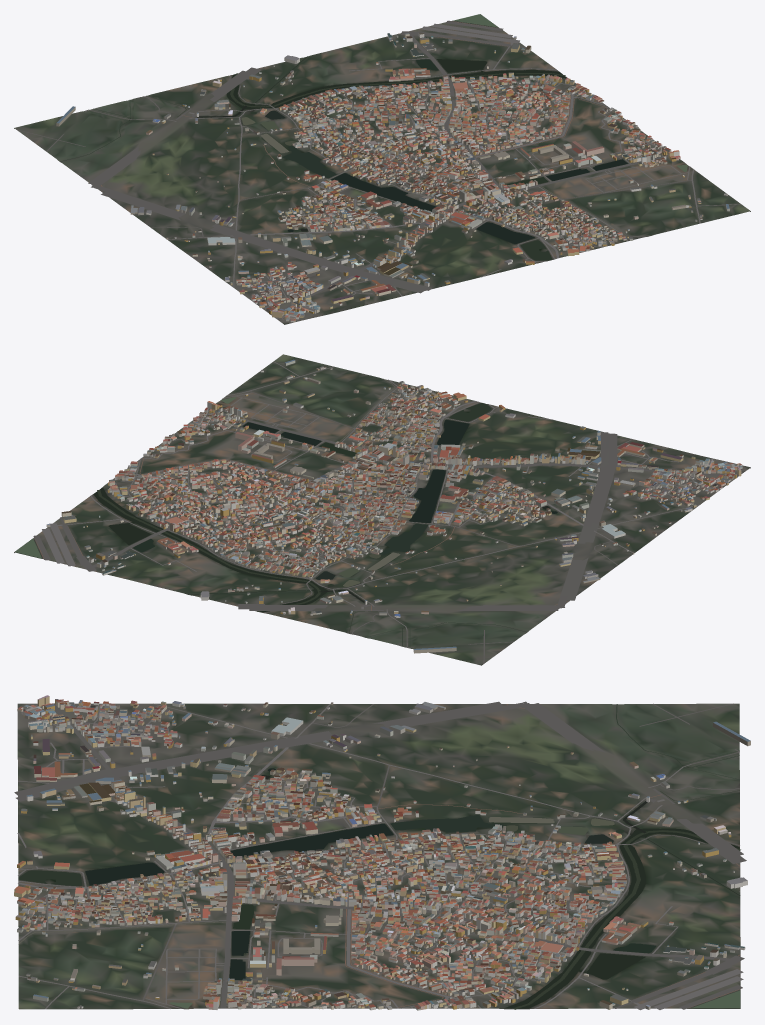
The picture shows the model from 3 angles, top to bottom: view 1: azimuth 30°, elevation 25°; view 2: azimuth 150°, elevation 25°; view 3: azimuth 270°, elevation 25°; orthographic projection. The views are drawn at different scales.
Parts seen in each view (by area): view 1: ground, buildings, roads, water; view 2: ground, buildings, roads, water; view 3: ground, buildings, roads, water.
Part boxes in pixels (x1,y1,x2,y2): ground: [14, 14, 750, 324]; buildings: [56, 32, 729, 322]; roads: [16, 20, 740, 320]; water: [60, 14, 687, 260]; ground: [14, 354, 750, 665]; buildings: [46, 359, 742, 653]; roads: [33, 361, 742, 663]; water: [15, 378, 557, 647]; ground: [17, 703, 740, 1009]; buildings: [14, 695, 750, 1010]; roads: [14, 701, 746, 1010]; water: [18, 704, 740, 1009].
Bounding box in the file's own units: 1420 × 32.1 × 1431.
